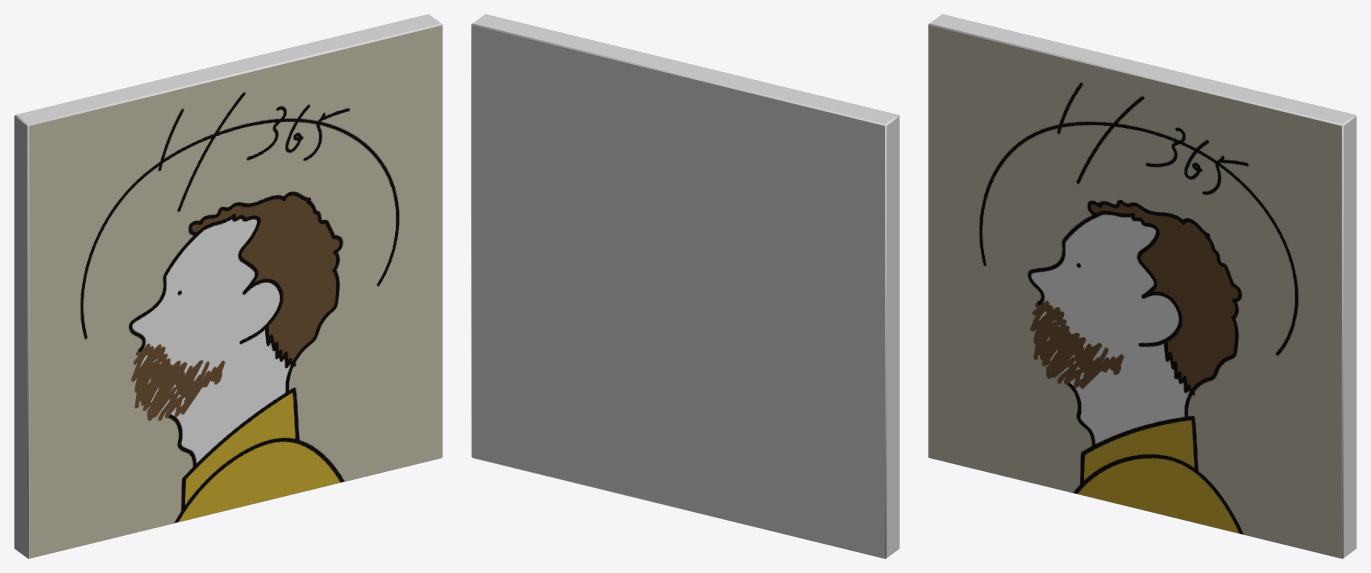
File: room10.glb
3 views of the same model, side by side, from view 1: azimuth 30°, elevation 25°; view 2: azimuth 150°, elevation 25°; view 3: azimuth 330°, elevation 25° (orthographic).
Visible parts, largest first — view 1: tex, board; view 2: board; view 3: tex, board.
Boxes of the visible parts, x1=… form: tex: x1=29, y1=25, x2=442, y2=558; board: x1=14, y1=14, x2=442, y2=558; board: x1=471, y1=14, x2=899, y2=558; tex: x1=928, y1=25, x2=1341, y2=558; board: x1=928, y1=14, x2=1356, y2=558.
Size of the model in its own units: 0.335 by 0.335 by 0.0205.
2 materials, 1 textured.
